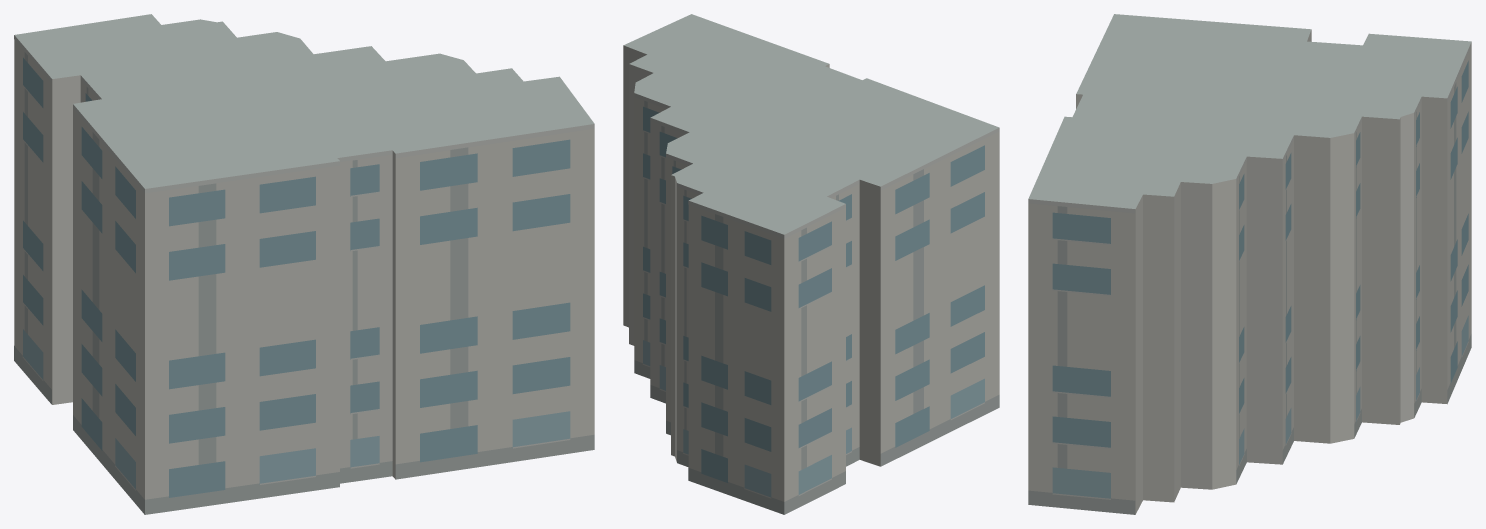
File: survey-upis-32978933.glb
The picture shows the model from 3 angles, left to right: view 1: azimuth 30°, elevation 25°; view 2: azimuth 150°, elevation 25°; view 3: azimuth 270°, elevation 25°; orthographic projection. The views are drawn at different scales.
Visible parts, largest first — view 1: survey-upis-32978933.tmp; view 2: survey-upis-32978933.tmp; view 3: survey-upis-32978933.tmp.
Boxes of the visible parts, box(x1,y1,x2,y2) form: survey-upis-32978933.tmp: box(14, 14, 594, 514); survey-upis-32978933.tmp: box(623, 14, 999, 514); survey-upis-32978933.tmp: box(1028, 14, 1471, 514).
Size of the model in its own units: 23.75 by 17.35 by 22.81.
